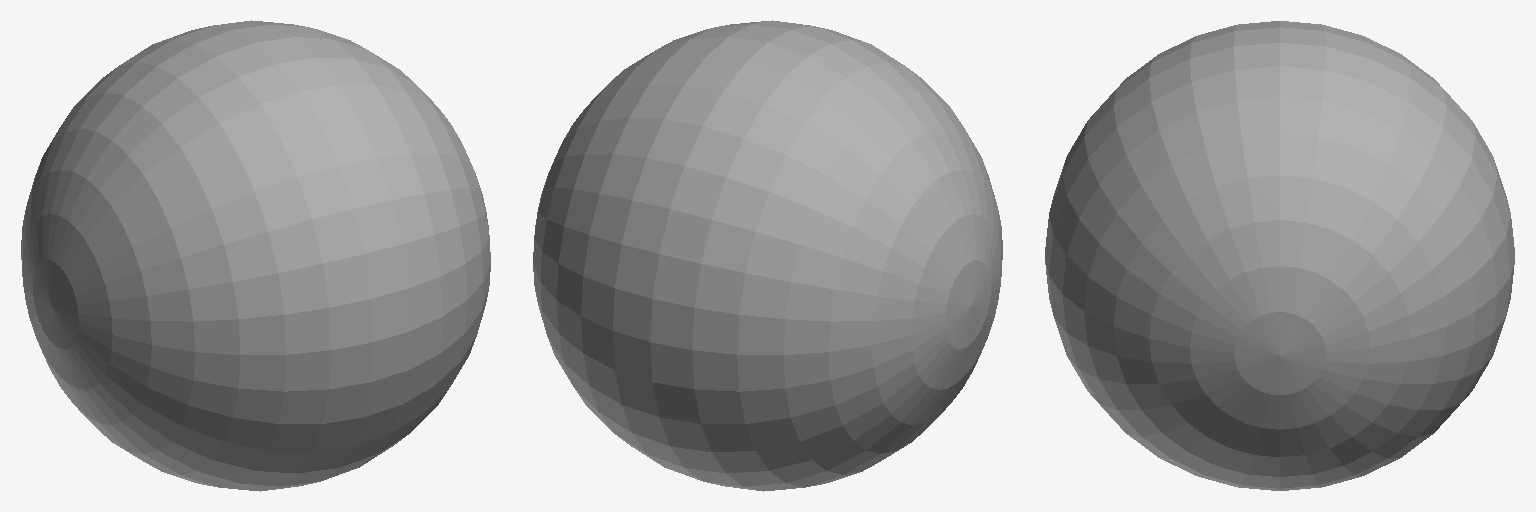
robot.urdf — panda:
<?xml version='1.0' encoding='utf-8'?>
<robot name="panda">

    <link name="link0">
      <inertial>
        <origin xyz="0 0 0.05" rpy="0 0 0" />
        <mass value="4" />
        <inertia ixx="0.4" iyy="0.4" izz="0.4" ixy="0" ixz="0" iyz="0" />
      </inertial>
      <visual>
        <geometry>
          <mesh filename="../../../model/panda/meshes/visual/link0.obj"/>
        </geometry>
      </visual>
<!--       <collision>
        <geometry>
          <mesh filename="../../../model/panda/meshes/collision/link0.obj"/>
        </geometry>
      </collision> -->
    </link>
    <link name="link1">
      <inertial>
        <origin xyz="0 0 -0.07" rpy="0 -0 0" />
        <mass value="4" />
        <inertia ixx="0.3" iyy="0.3" izz="0.3" ixy="0" ixz="0" iyz="0" />
      </inertial>
      <visual>
        <geometry>
          <mesh filename="../../../model/panda/meshes/visual/link1.obj"/>
        </geometry>
      </visual>
      <!-- <collision>
        <geometry>
          <mesh filename="../../../model/panda/meshes/collision/link1.obj"/>
        </geometry>
      </collision> -->
    </link>
    <link name="link2">
      <inertial>
        <origin xyz="0 -0.1 0" rpy="0 -0 0" />
        <mass value="3" />
        <inertia ixx="0.3" iyy="0.3" izz="0.3" ixy="0" ixz="0" iyz="0" />
      </inertial>
      <visual>
        <geometry>
          <mesh filename="../../../model/panda/meshes/visual/link2.obj"/>
        </geometry>
      </visual>
      <!-- <collision>
        <geometry>
          <mesh filename="../../../model/panda/meshes/collision/link2.obj"/>
        </geometry>
      </collision> -->
    </link>
    <link name="link3">
      <inertial>
        <origin xyz="0.04 0 -0.05" rpy="0 -0 0" />
        <mass value="3" />
        <inertia ixx="0.2" iyy="0.2" izz="0.2" ixy="0" ixz="0" iyz="0" />
      </inertial>
      <visual>
        <geometry>
          <mesh filename="../../../model/panda/meshes/visual/link3.obj"/>
        </geometry>
      </visual>
      <!-- <collision>
        <geometry>
          <mesh filename="../../../model/panda/meshes/collision/link3.obj"/>
        </geometry>
      </collision> -->
    </link>
    <link name="link4">
      <inertial>
        <origin xyz="-0.04 0.05 0" rpy="0 -0 0" />
        <mass value="3" />
        <inertia ixx="0.2" iyy="0.2" izz="0.2" ixy="0" ixz="0" iyz="0" />
      </inertial>
      <visual>
        <geometry>
          <mesh filename="../../../model/panda/meshes/visual/link4.obj"/>
        </geometry>
      </visual>
<!--       <collision>
        <geometry>
          <mesh filename="../../../model/panda/meshes/collision/link4.obj"/>
        </geometry>
      </collision> -->
    </link>
    <link name="link5">
      <inertial>
        <origin xyz="0 0 -0.15" rpy="0 -0 0" />
        <mass value="3" />
        <inertia ixx="0.2" iyy="0.2" izz="0.2" ixy="0" ixz="0" iyz="0" />
      </inertial>
      <visual>
        <geometry>
          <mesh filename="../../../model/panda/meshes/visual/link5.obj"/>
        </geometry>
      </visual>
<!--       <collision>
        <geometry>
          <mesh filename="../../../model/panda/meshes/collision/link5.obj"/>
        </geometry>
      </collision> -->
    </link>
    <link name="link6">
      <inertial>
        <origin xyz="0.06 0 0" rpy="0 -0 0" />
        <mass value="2" />
        <inertia ixx="0.1" iyy="0.1" izz="0.1" ixy="0" ixz="0" iyz="0" />
      </inertial>
      <visual>
        <geometry>
          <mesh filename="../../../model/panda/meshes/visual/link6.obj"/>
        </geometry>
      </visual>
      <!-- <collision>
        <geometry>
          <mesh filename="../../../model/panda/meshes/collision/link6.obj"/>
        </geometry>
      </collision> -->
    </link>
    <link name="link7">
      <inertial>
        <origin xyz="0 0 0.17" rpy="0 -0 0" />
        <mass value="0.5" />
        <inertia ixx="0.09" iyy="0.05" izz="0.07" ixy="0" ixz="0" iyz="0" />
      </inertial>
      <visual>
        <geometry>
          <mesh filename="../../../model/panda/meshes/visual/link7.obj"/>
        </geometry>
      </visual>
      <!-- <collision>
        <geometry>
          <mesh filename="../../../model/panda/meshes/collision/link7.obj"/>
        </geometry>
      </collision> -->
      <visual>
      	<origin xyz="0 0 0.15" rpy="0 0 0" />
      	<geometry>
      	   <sphere radius="0.01"/>
      	</geometry>
      </visual>
    </link>
    <joint name="joint1" type="revolute">
      <safety_controller k_position="100.0" k_velocity="40.0" soft_lower_limit="-2.8973" soft_upper_limit="2.8973"/>
      <origin rpy="0 0 0" xyz="0 0 0.333"/>
      <parent link="link0"/>
      <child link="link1"/>
      <axis xyz="0 0 1"/>
      <calibration falling="-80.0" />
      <limit effort="87" lower="-2.8973" upper="2.8973" velocity="2.1750"/>
    </joint>
    <joint name="joint2" type="revolute">
      <safety_controller k_position="100.0" k_velocity="40.0" soft_lower_limit="-1.7628" soft_upper_limit="1.7628"/>
      <origin rpy="-1.57079632679 0 0" xyz="0 0 0"/>
      <parent link="link1"/>
      <child link="link2"/>
      <axis xyz="0 0 1"/>
      <calibration falling="-45.0" />
      <limit effort="87" lower="-1.7628" upper="1.7628" velocity="2.1750"/>
    </joint>
    <joint name="joint3" type="revolute">
      <safety_controller k_position="100.0" k_velocity="40.0" soft_lower_limit="-2.8973" soft_upper_limit="2.8973"/>
      <origin rpy="1.57079632679 0 0" xyz="0 -0.316 0"/>
      <parent link="link2"/>
      <child link="link3"/>
      <axis xyz="0 0 1"/>
      <limit effort="87" lower="-2.8973" upper="2.8973" velocity="2.1750"/>
    </joint>
    <joint name="joint4" type="revolute">
      <safety_controller k_position="100.0" k_velocity="40.0" soft_lower_limit="-3.0718" soft_upper_limit="-0.0698"/>
      <origin rpy="1.57079632679 0 0" xyz="0.0825 0 0"/>
      <parent link="link3"/>
      <child link="link4"/>
      <axis xyz="0 0 1"/>
      <calibration falling="-125.0" />
      <limit effort="87" lower="-3.0718" upper="-0.0698" velocity="2.1750"/>
    </joint>
    <joint name="joint5" type="revolute">
      <safety_controller k_position="100.0" k_velocity="40.0" soft_lower_limit="-2.8973" soft_upper_limit="2.8973"/>
      <origin rpy="-1.57079632679 0 0" xyz="-0.0825 0.384 0"/>
      <parent link="link4"/>
      <child link="link5"/>
      <axis xyz="0 0 1"/>
      <limit effort="12" lower="-2.8973" upper="2.8973" velocity="2.6100"/>
    </joint>
    <joint name="joint6" type="revolute">
      <safety_controller k_position="100.0" k_velocity="40.0" soft_lower_limit="-0.0175" soft_upper_limit="3.7525"/>
      <origin rpy="1.57079632679 0 0" xyz="0 0 0"/>
      <parent link="link5"/>
      <child link="link6"/>
      <axis xyz="0 0 1"/>
      <calibration falling="80.0" />
      <limit effort="12" lower="-0.0175" upper="3.7525" velocity="2.6100"/>
    </joint>
    <joint name="joint7" type="revolute">
      <safety_controller k_position="100.0" k_velocity="40.0" soft_lower_limit="-2.8973" soft_upper_limit="2.8973"/>
      <origin rpy="1.57079632679 0 0" xyz="0.088 0 0"/>
      <parent link="link6"/>
      <child link="link7"/>
      <axis xyz="0 0 1"/>
      <limit effort="12" lower="-2.8973" upper="2.8973" velocity="2.6100"/>
    </joint>
</robot>

--- What the picture shows (computed from the rendered views, not written in the file) ---
Views: 3 orthographic renders of the robot side by side, from view 1: azimuth 30°, elevation 25°; view 2: azimuth 150°, elevation 25°; view 3: azimuth 270°, elevation 25°.
Model panda with 8 links and 7 joints (7 revolute), rooted at link0, posed all joints at 0 but 1 set to mid-range because 0 is outside their limits (joint4 = -1.57).
Links seen in each view (by area): view 1: link7; view 2: link7; view 3: link7.
Boxes of the visible links, <box> form: link7: <box>21,20,490,491</box>; link7: <box>533,20,1002,491</box>; link7: <box>1045,21,1514,490</box>.
Size in the robot's own frame: 0.02 by 0.02 by 0.02 metres.
Geometry: only primitive shapes (box / cylinder / sphere) drawn; not drawn: 8 mesh visuals (reference in a form the renderer does not follow).